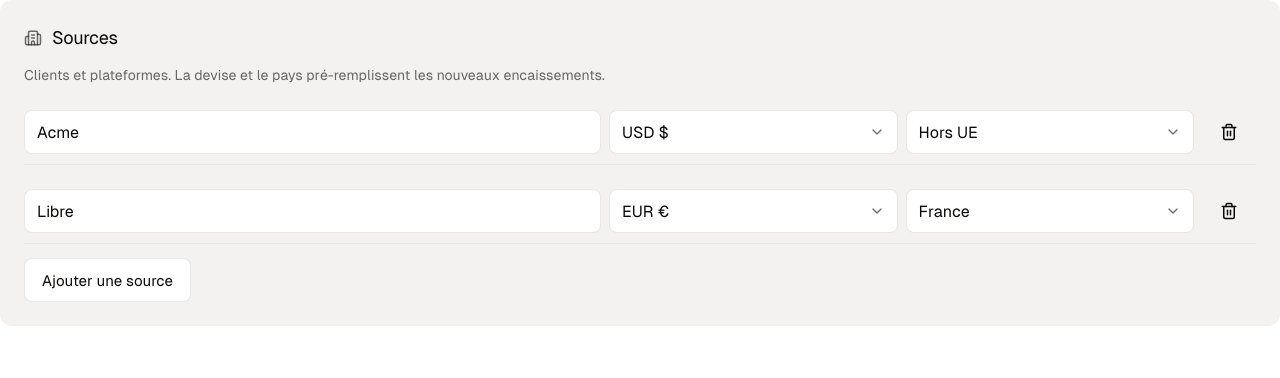
Test: SourcesSection › refuses to delete a source in use and explains why
The image size is (1280, 378).
Click the button named "Supprimer Acme".
click(1229, 132)  # box top-left (1202, 110), bottom-right (1256, 154)
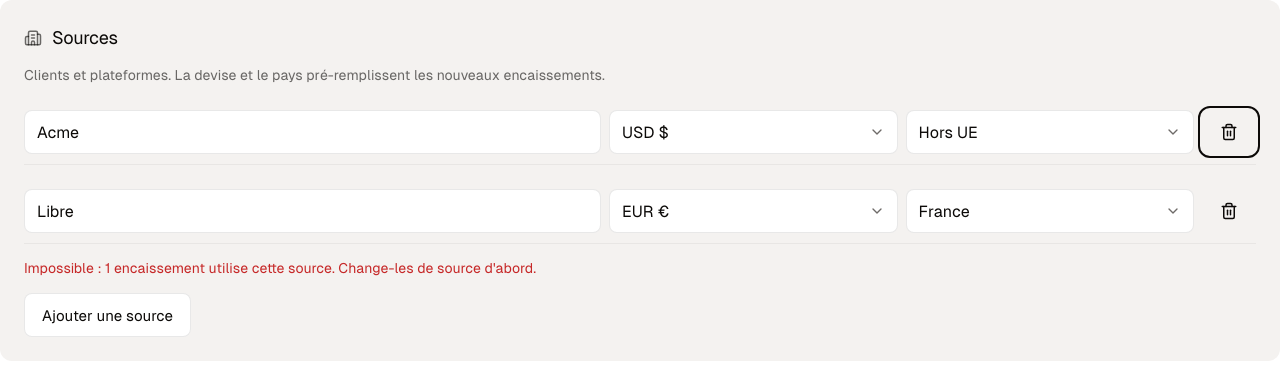
Expected: the message shows "1 encaissement utilise cette source", top-left (24, 260), bottom-right (536, 276)
